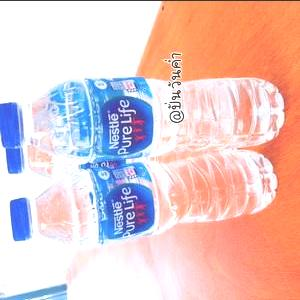bottle: (4, 144, 280, 253), (0, 71, 290, 167), (3, 106, 243, 196)
